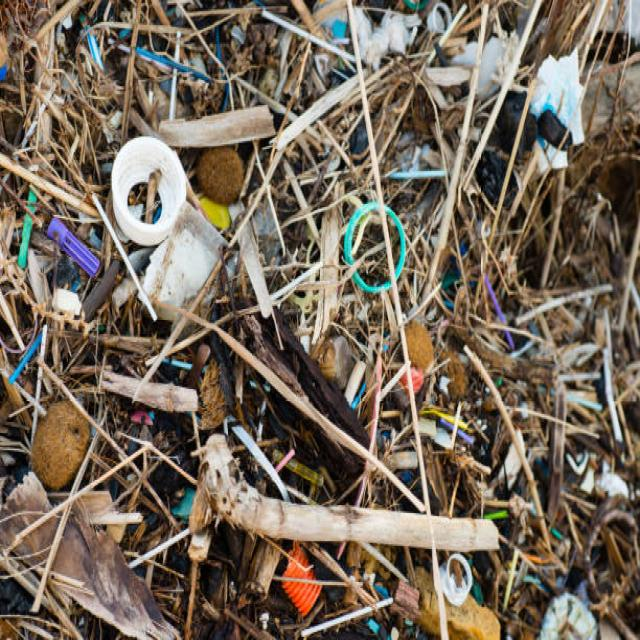plastic: (101, 138, 196, 248), (335, 212, 418, 296)
